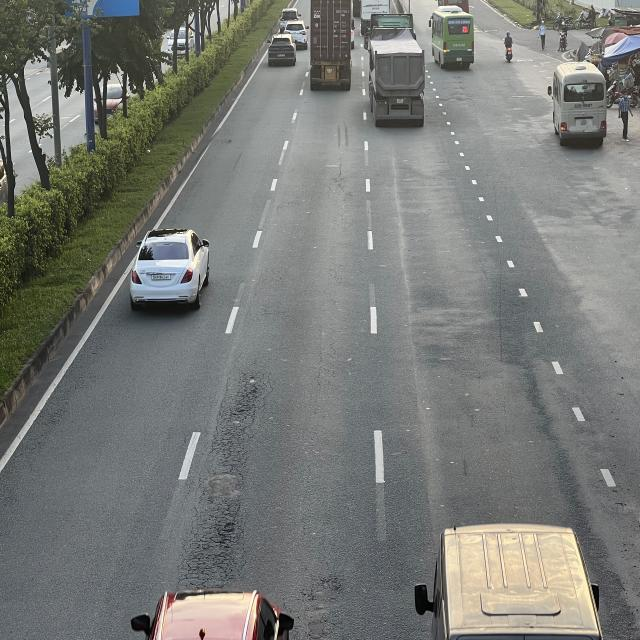car: (133, 228, 214, 312), (268, 34, 298, 68)
coach: (548, 60, 608, 144), (429, 5, 474, 65)
container: (369, 32, 428, 130), (312, 0, 357, 90)
